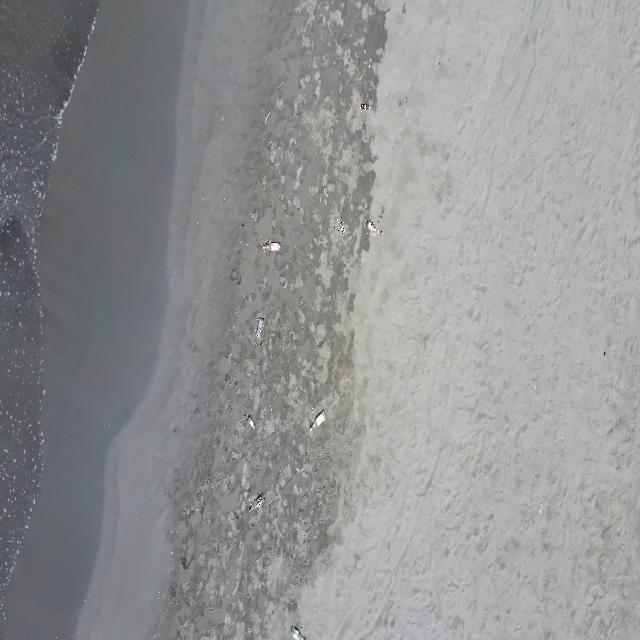glass: (310, 408, 326, 432), (365, 219, 383, 238), (249, 494, 265, 512), (255, 317, 264, 347), (334, 217, 348, 235), (291, 624, 306, 640), (262, 241, 281, 252), (247, 415, 256, 431), (360, 102, 370, 112), (324, 185, 329, 199)
